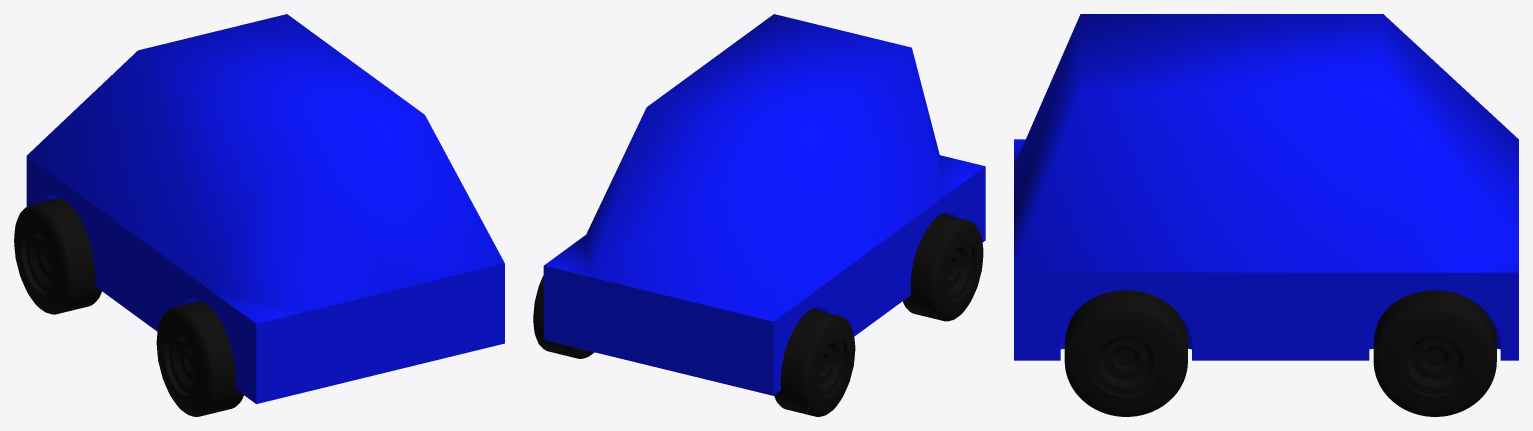
File: carexp.FBX
The picture shows the model from 3 angles, left to right: view 1: azimuth 30°, elevation 25°; view 2: azimuth 150°, elevation 25°; view 3: azimuth 270°, elevation 25°; orthographic projection. The views are drawn at different scales.
Visible parts, largest first — view 1: Box001, Cylinder013, Cylinder012; view 2: Box001, Cylinder013, Cylinder012, Cylinder005; view 3: Box001, Cylinder005, Cylinder011.
Part boxes in pixels (x1=…): Box001: x1=26, y1=14, x2=504, y2=403; Cylinder013: x1=14, y1=197, x2=101, y2=314; Cylinder012: x1=156, y1=300, x2=243, y2=416; Box001: x1=543, y1=14, x2=985, y2=395; Cylinder013: x1=774, y1=309, x2=855, y2=416; Cylinder012: x1=903, y1=214, x2=983, y2=321; Cylinder005: x1=533, y1=275, x2=594, y2=358; Box001: x1=1014, y1=14, x2=1518, y2=360; Cylinder005: x1=1373, y1=290, x2=1496, y2=416; Cylinder011: x1=1064, y1=290, x2=1187, y2=416.
Bounding box in the file's own units: 121 × 100 × 161.
